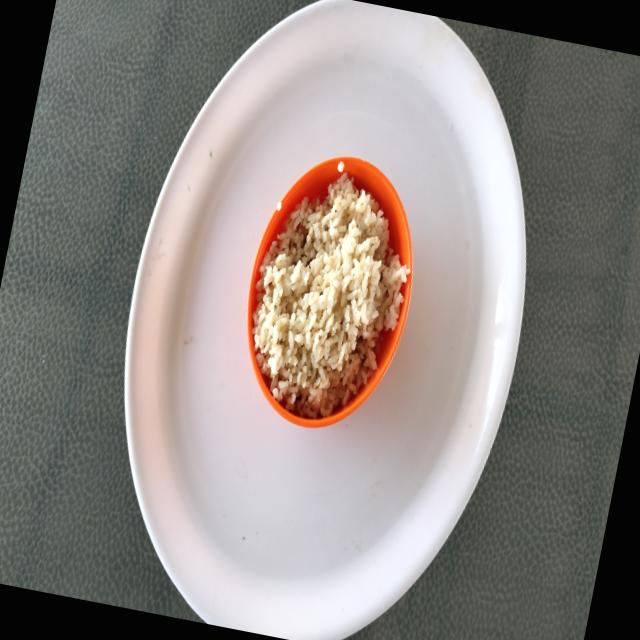brown-rice: (253, 172, 407, 420)
